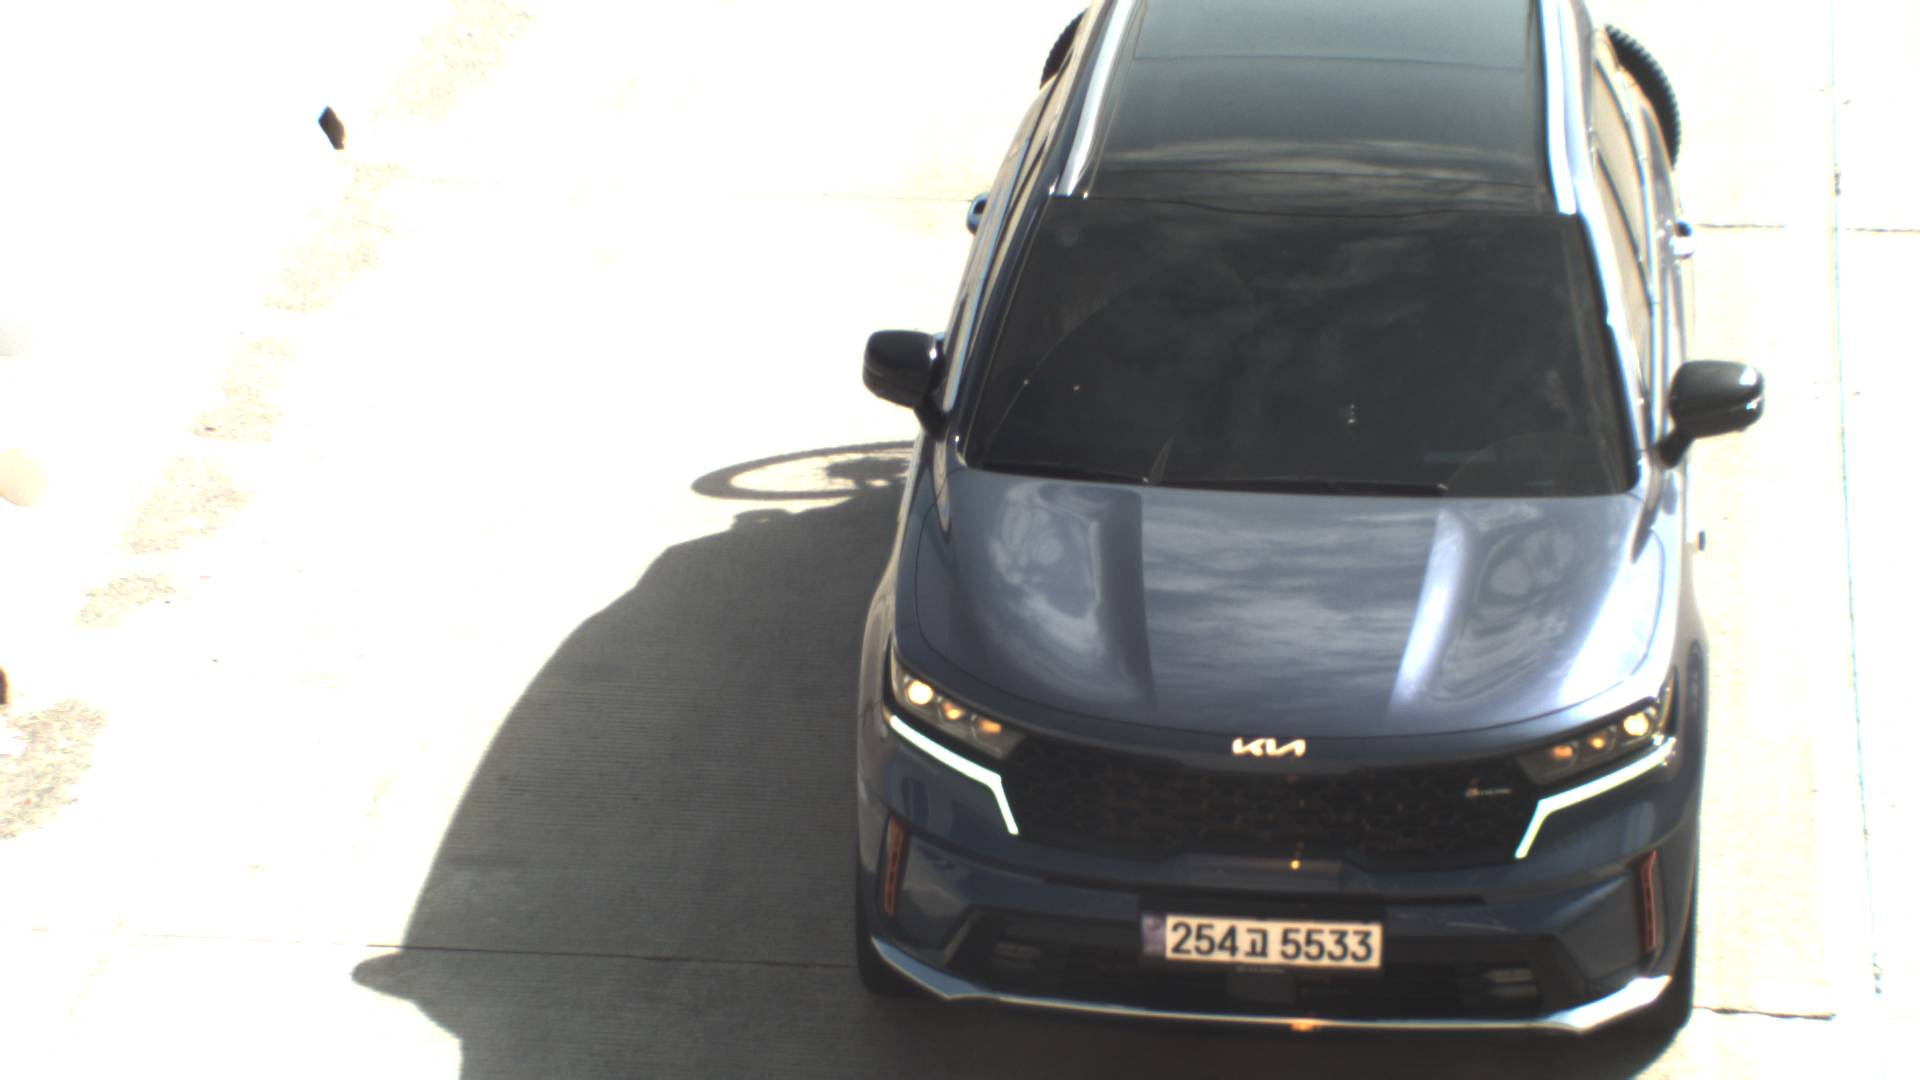car: (845, 1, 1769, 1063)
plate: (1135, 909, 1383, 975)
